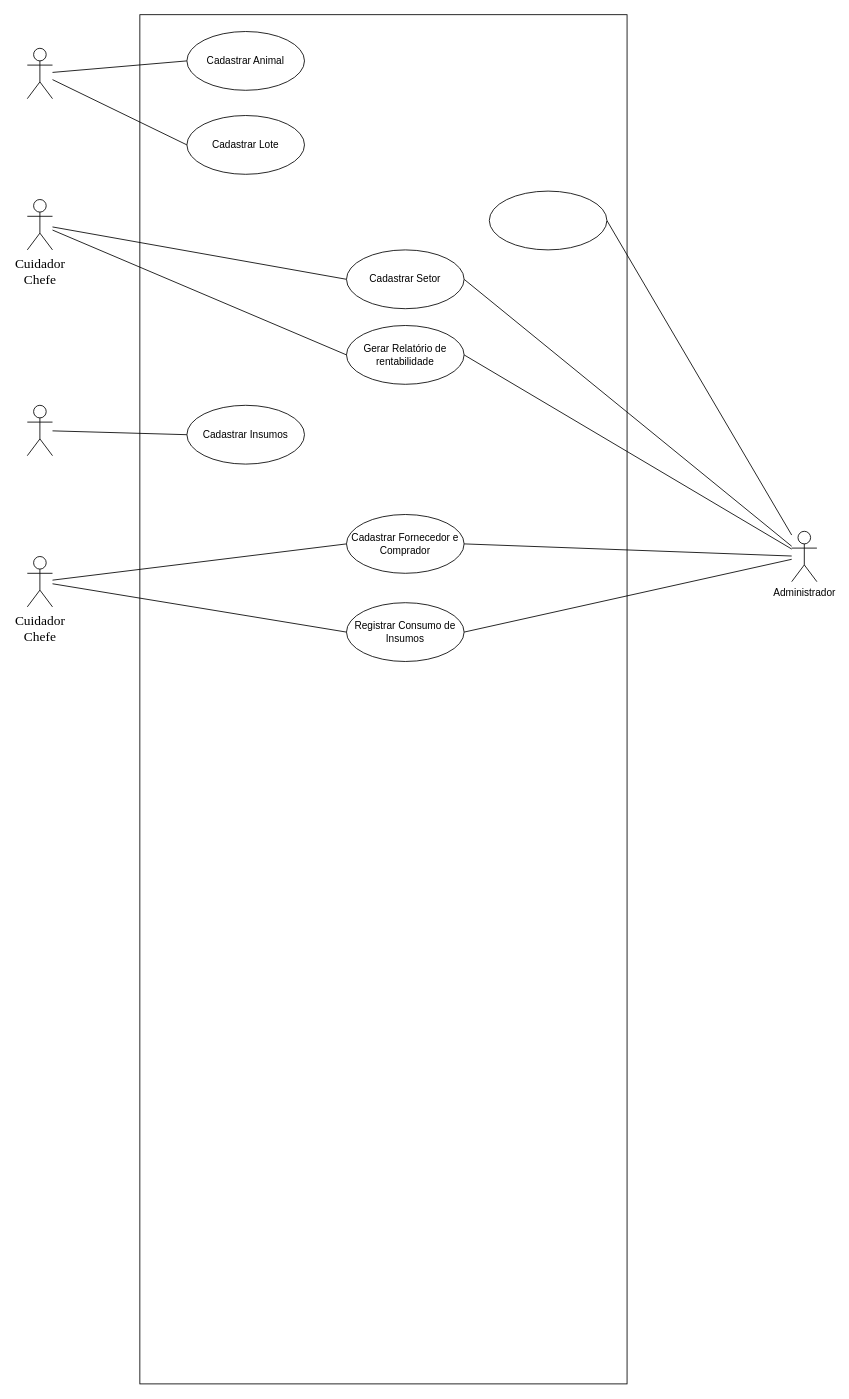
This 849x1399 diagram has some shape labels left out. The shapes that lost their labels are listed below. From the top down, each one's box as (x1, y1, x2, y2) in pixels, then its label:
(26, 47, 52, 99): Cuidador
(488, 190, 607, 250): Criar Metas Para Setor
(26, 404, 52, 456): Chefe de Almox.
